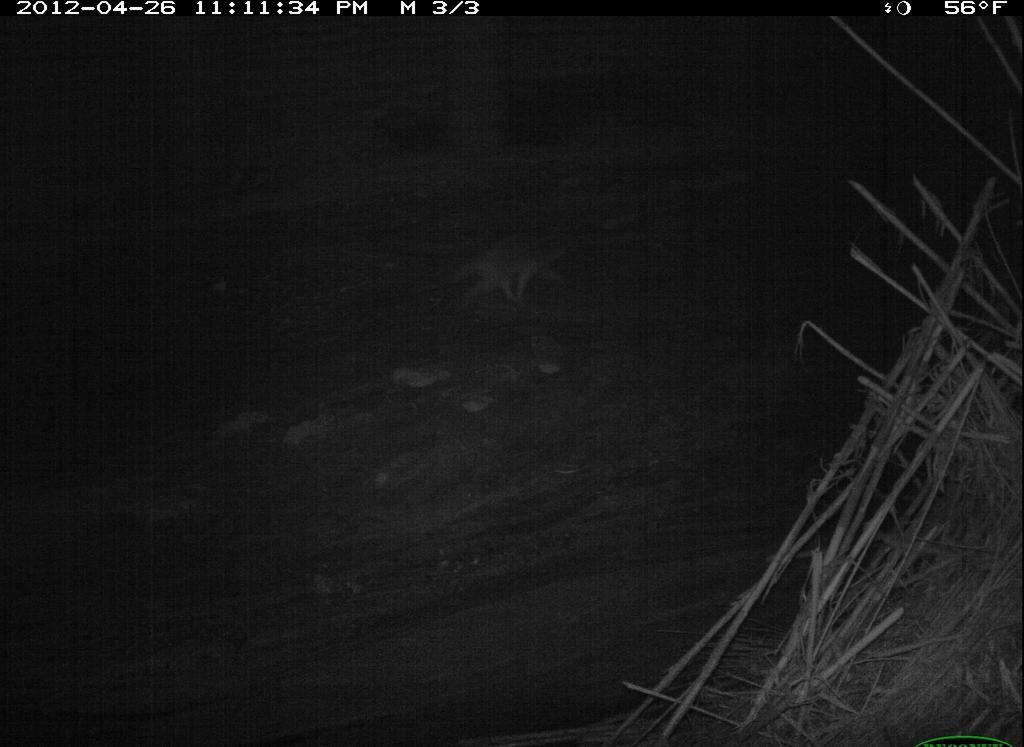raccoon: (449, 223, 591, 317)
